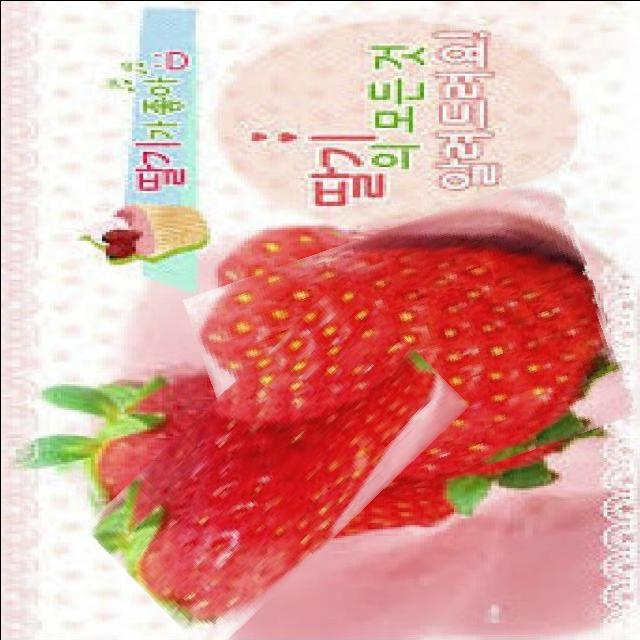strawberry: (196, 199, 622, 512), (89, 326, 462, 607)
